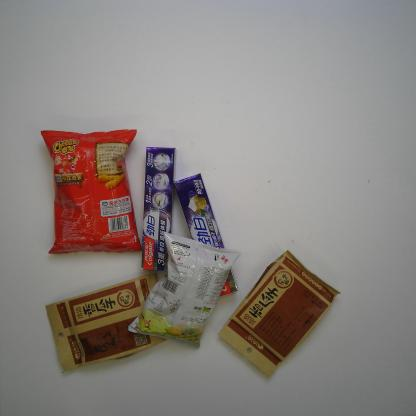Dried Food: (214, 248, 345, 378), (43, 267, 178, 380)
Personal Hygiene: (173, 171, 241, 298), (140, 145, 178, 273)
Puffed Food: (123, 226, 241, 350), (38, 126, 147, 256)
